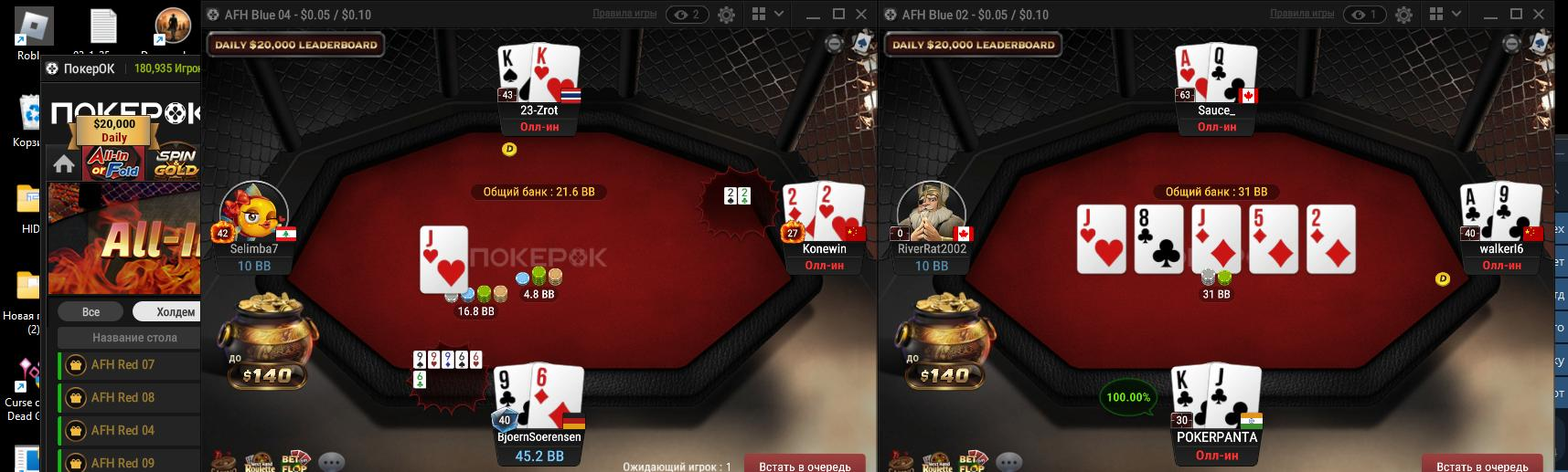2d: (1306, 205, 1355, 275), (783, 183, 816, 240)
2h: (817, 182, 864, 242)
5d: (1249, 205, 1297, 273)
6d: (532, 365, 584, 435)
8c: (1135, 206, 1183, 271)
9c: (1494, 180, 1541, 242), (493, 365, 531, 428)
Ac: (1457, 182, 1495, 243)
Ah: (1176, 45, 1208, 102)
Jc: (1208, 362, 1261, 431)
Jd: (1194, 204, 1240, 273)
Jh: (419, 225, 468, 294), (1078, 207, 1125, 274)
Kc: (1170, 366, 1208, 429)
Kh: (532, 41, 581, 100)
Ks: (498, 45, 532, 102)
Qc: (1208, 42, 1257, 102)
